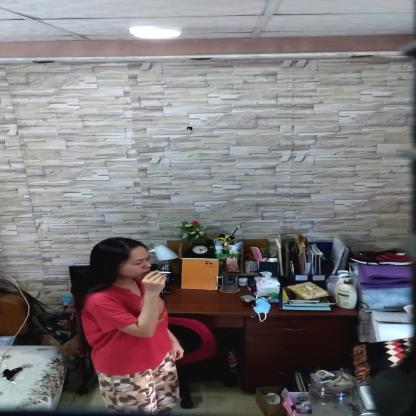cigarette: (157, 271, 172, 274)
person: (70, 236, 186, 415)
